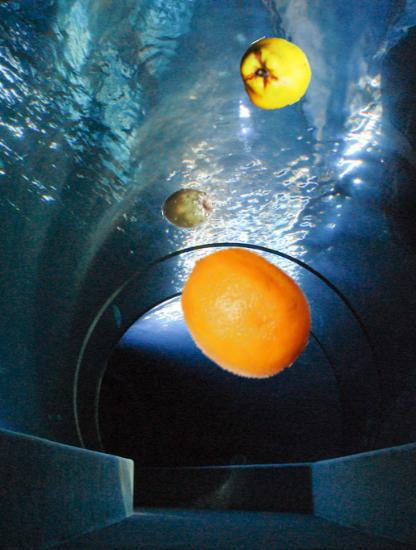Cactus: (161, 181, 214, 234)
Lemon: (173, 242, 314, 383)
Quince: (238, 36, 311, 109)
